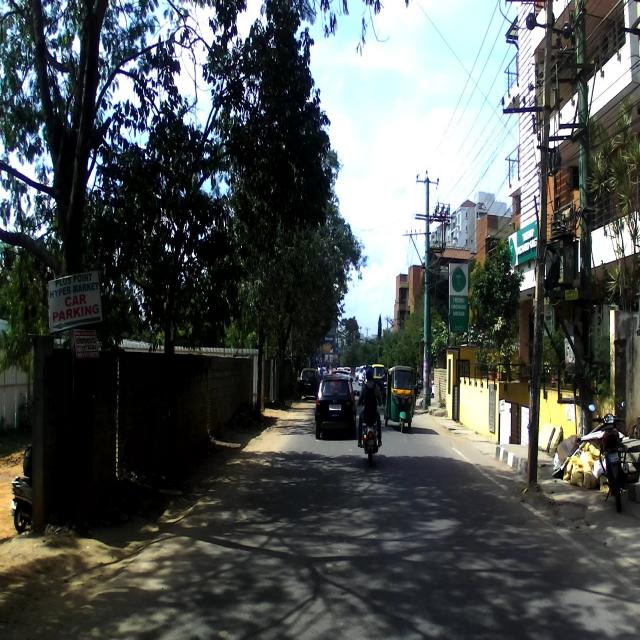autorickshaw: (383, 364, 416, 432)
car: (314, 373, 357, 439)
motorcycle: (588, 400, 630, 512), (355, 390, 384, 465)
